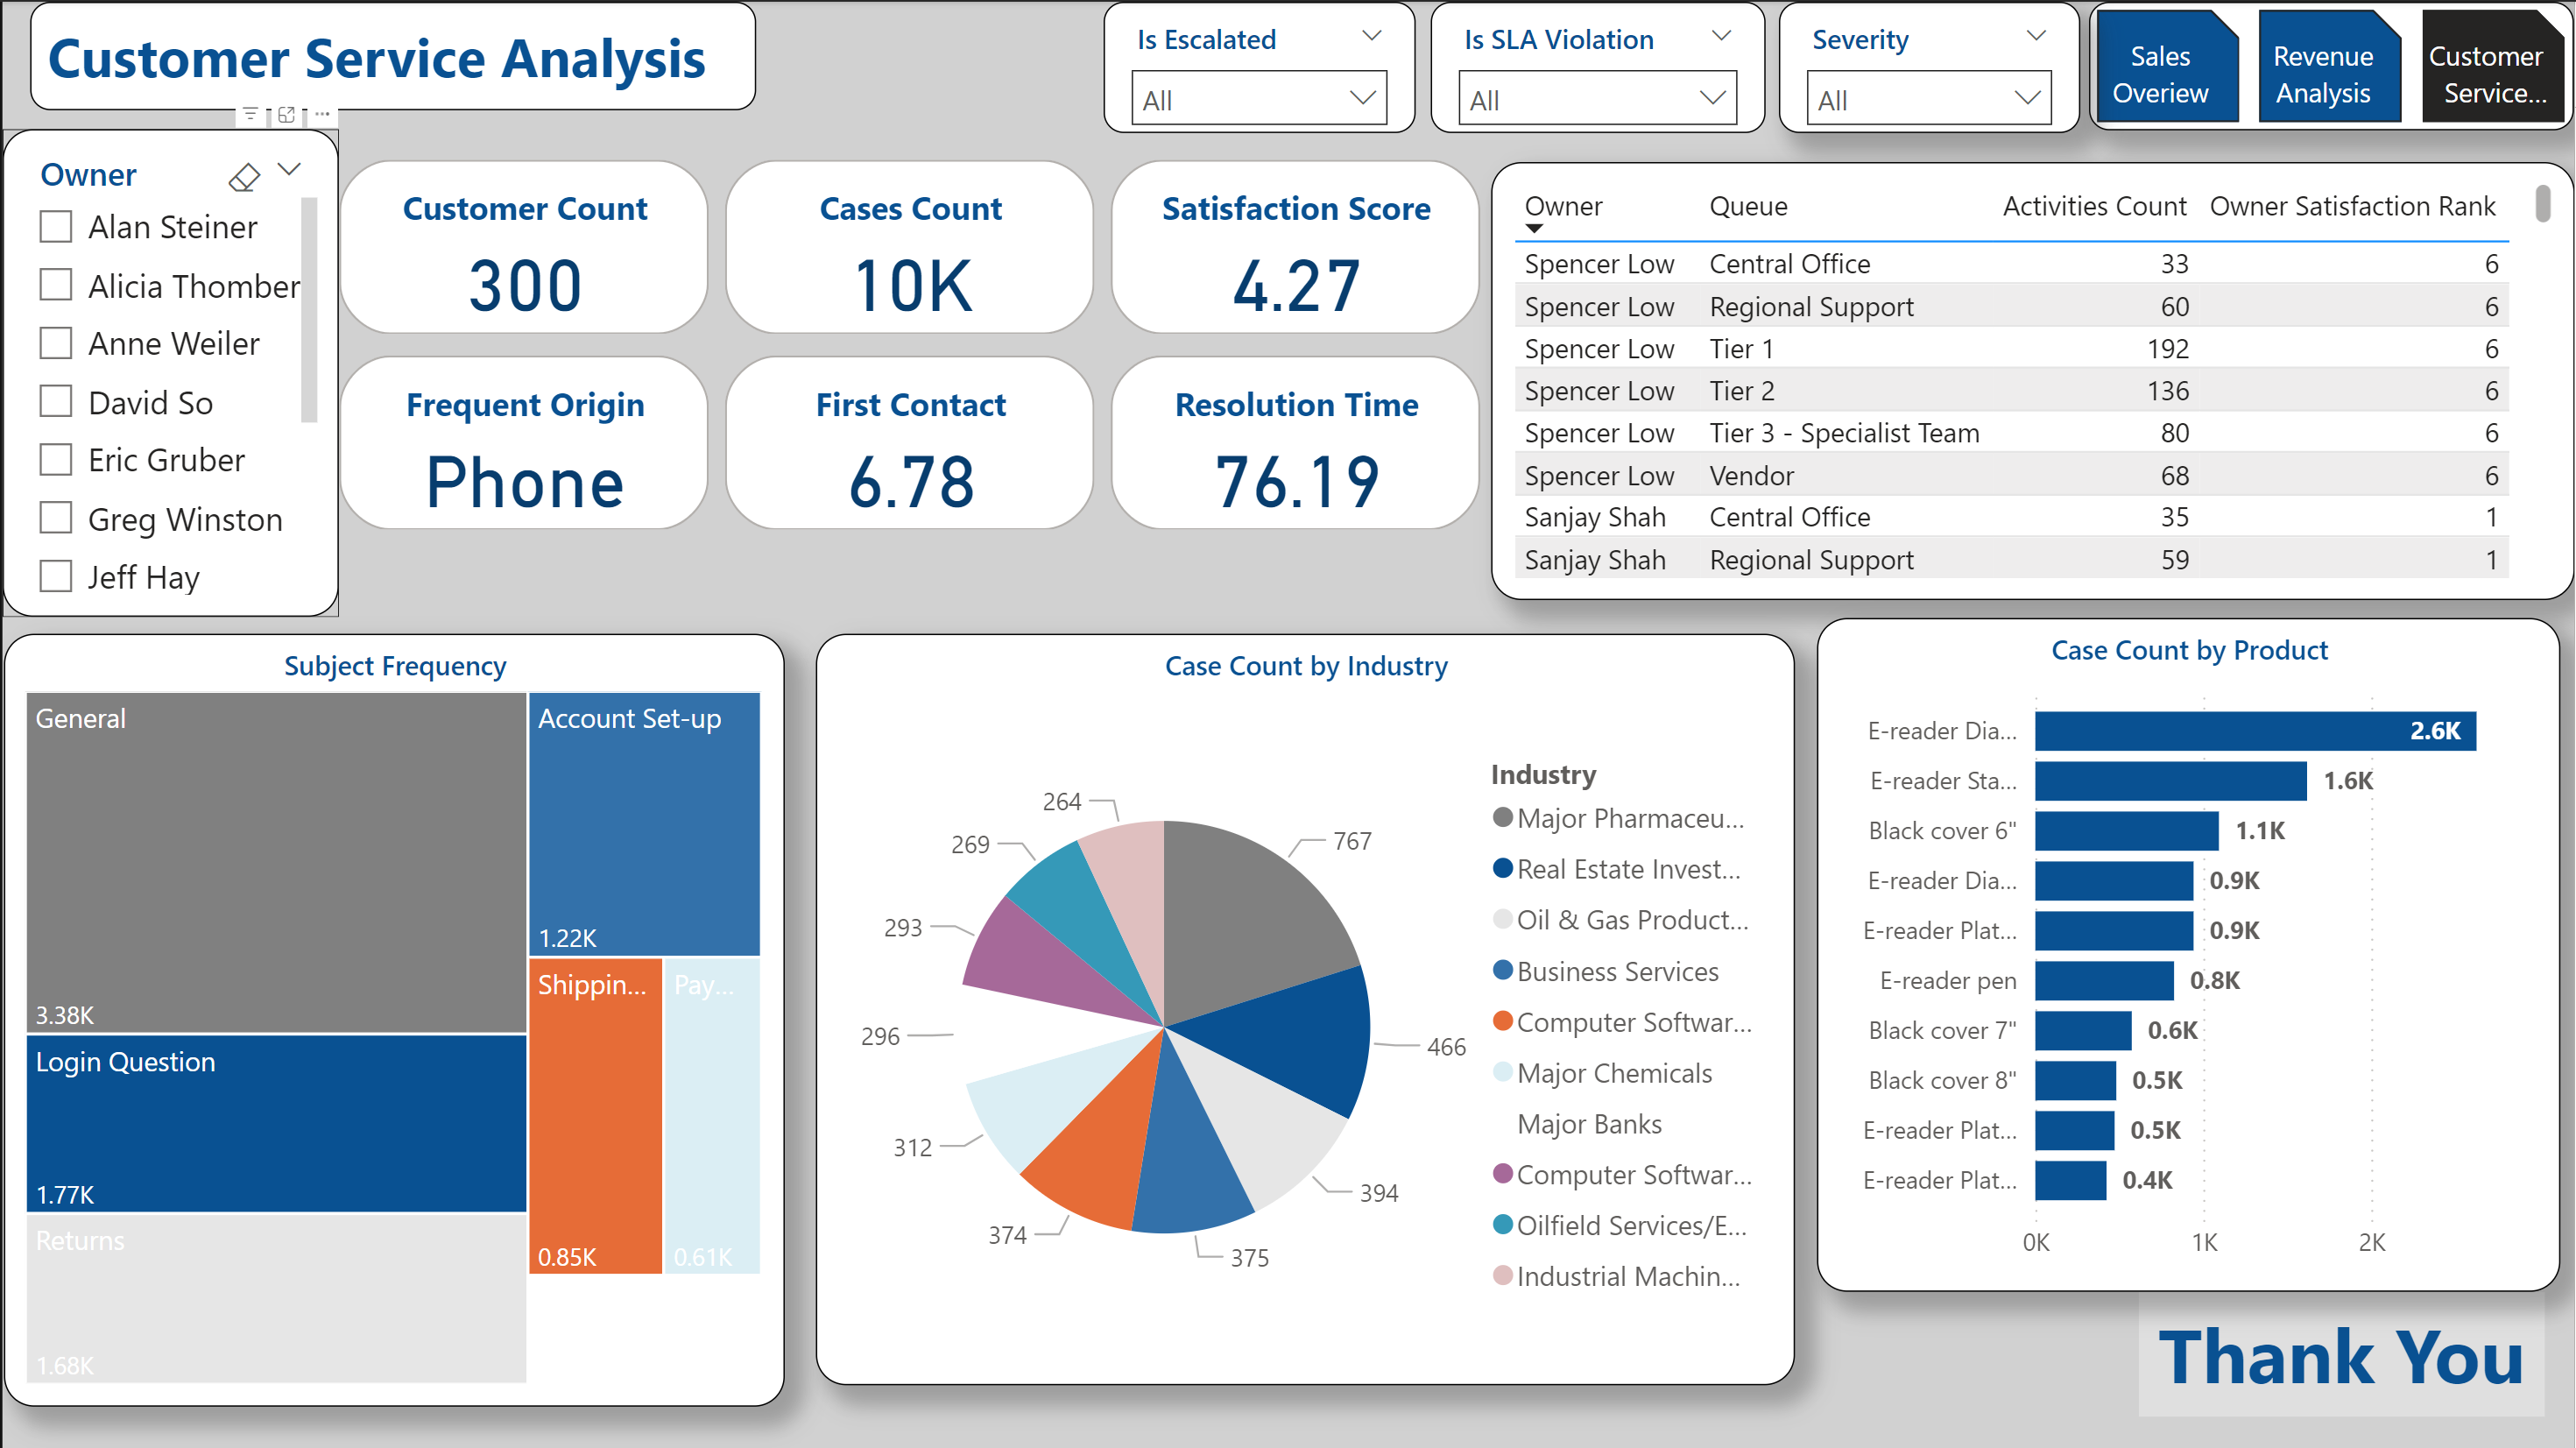

Layout of this report page (visuals, bound fields, positions):
{"tool":"powerbi","page":{"name":"Customer Service Analysis","canvas":[1280,720],"ordinal":2},"visuals":[{"type":"treemap","title":"Subject Frequency","fields":{"Group":["CaseTbl.Subject"],"Values":["CaseTbl.AccountSeq"]},"box":[0.7,314.2,388.4,384.8],"z":0},{"type":"pageNavigator","box":[1038.5,0,241.3,64.1],"z":1000},{"type":"textbox","box":[14,0,361.5,53.9],"z":2000},{"type":"slicer","fields":{"Values":["CaseTbl.Owner"]},"box":[0,63.2,167.1,243],"z":3000},{"type":"cardVisual","fields":{"Data":["CaseTbl.AccountSeq","CaseTbl.IncidentSeq","CaseTbl.Satisfaction Score"]},"box":[162.4,73.4,578.3,97.4],"z":4000},{"type":"slicer","fields":{"Values":["CaseTbl.Is Escalated"]},"box":[547.9,0,155.1,65.2],"z":5000},{"type":"slicer","fields":{"Values":["CaseTbl.Is SLA Violation"]},"box":[711,0,166.4,65.2],"z":6000},{"type":"slicer","fields":{"Values":["CaseTbl.Severity"]},"box":[884.1,0,149.8,65.2],"z":7000},{"type":"tableEx","fields":{"Values":["CaseTbl.Owner","CaseTbl.Queue","CaseTbl.Activities","CaseTbl.Owner Satisfaction Rank"]},"box":[740.7,79.8,539.5,218.2],"z":8000},{"type":"textbox","box":[1063.3,642.2,202.1,62.1],"z":9000},{"type":"pieChart","title":"Case Count by Industry","fields":{"Category":["Accounts.Industry"],"Y":["CaseTbl.Case Count by Industry"]},"box":[404.6,314.2,487.2,374.3],"z":10000},{"type":"clusteredBarChart","title":"Case Count by Product","fields":{"Y":["CaseTbl.Case Count by Product"],"Category":["ProductTbl.Product"]},"box":[903.2,306.5,370,335.4],"z":11000},{"type":"cardVisual","fields":{"Data":["CaseTbl.Most Frequent Origin","CaseTbl.Minutes to First Contact","CaseTbl.Resolution Minutes"]},"box":[162.4,170.9,578.3,97.4],"z":12000}]}

Visuals, with their boxes in screenshot pixels (x1, y1, x2, y2), scaled from the page's 1280x720 canvas onto the 2576x1448 screenshot:
"Subject Frequency" treemap: (2,632,783,1406)
pageNavigator: (2090,0,2575,129)
textbox: (28,0,756,109)
slicer - CaseTbl.Owner: (0,127,336,616)
cardVisual - CaseTbl.AccountSeq x CaseTbl.IncidentSeq: (327,148,1491,343)
slicer - CaseTbl.Is Escalated: (1103,0,1415,131)
slicer - CaseTbl.Is SLA Violation: (1431,0,1766,131)
slicer - CaseTbl.Severity: (1779,0,2081,131)
tableEx - CaseTbl.Owner x CaseTbl.Queue: (1491,160,2575,599)
textbox: (2140,1291,2546,1416)
"Case Count by Industry" pieChart: (815,632,1795,1385)
"Case Count by Product" clusteredBarChart: (1817,617,2562,1291)
cardVisual - CaseTbl.Most Frequent Origin x CaseTbl.Minutes to First Contact: (327,343,1491,540)
